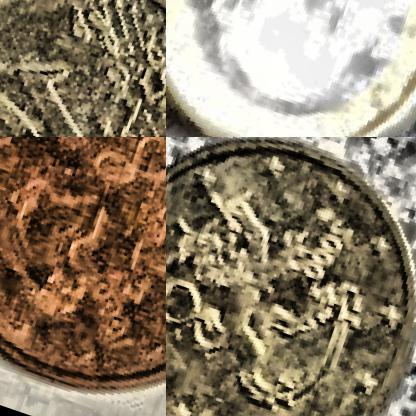coin: (166, 137, 415, 415), (0, 137, 165, 415), (166, 0, 415, 136), (0, 0, 165, 136)
